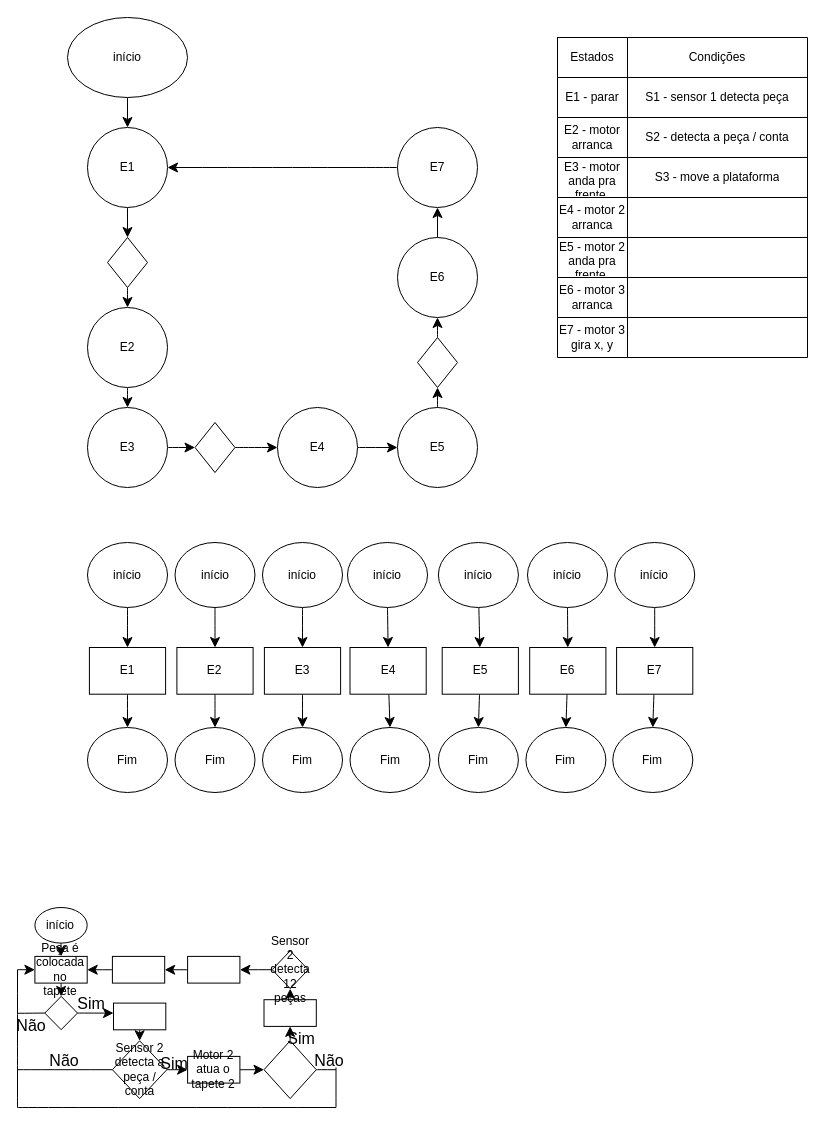
Image size: 825x1126. Some labels were removed from this diagram. The shapes that lost their labels are listed below. From the top down, each one's centre as x and y in pixels, then its label:
At point 127,262: "S1".
At point 437,362: "S3".
At point 214,447: "S2".
At point 138,969: "Caixa é trocada".
At point 213,969: "Processo é encerrado até troca da caixa".
At point 61,1012: "Sensor detecta a peça".
At point 139,1016: "Motor 1 atua o tapete 1".
At point 289,1012: "Base móvel ativa".
At point 289,1069: "Sensor 3 detecta a peça".
